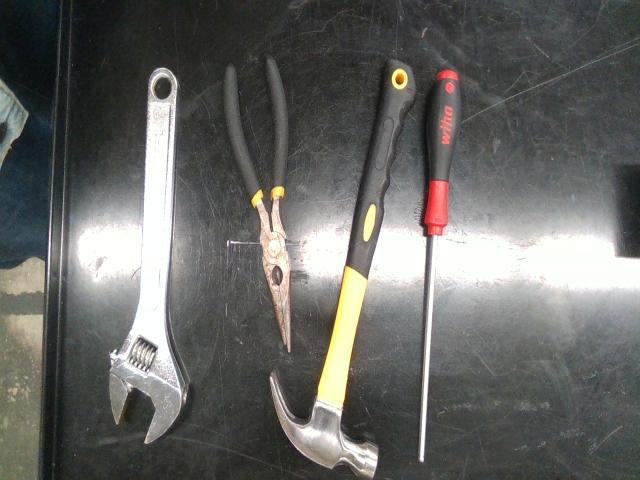Adjustable spanner: (109, 68, 189, 443)
Hammer: (270, 60, 415, 478)
Needle-nose pliers: (224, 55, 290, 351)
Screwdriver: (418, 70, 461, 461)
